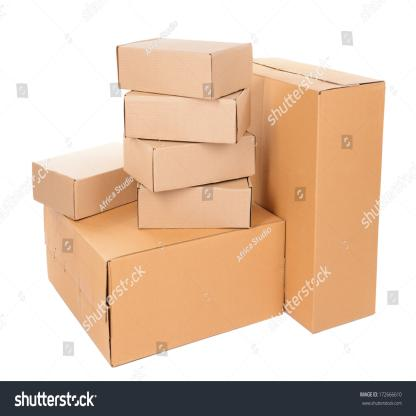box: (109, 221, 285, 366), (310, 82, 385, 332), (155, 136, 255, 192), (126, 94, 238, 142), (118, 46, 212, 100), (139, 188, 250, 230), (32, 160, 74, 217)
